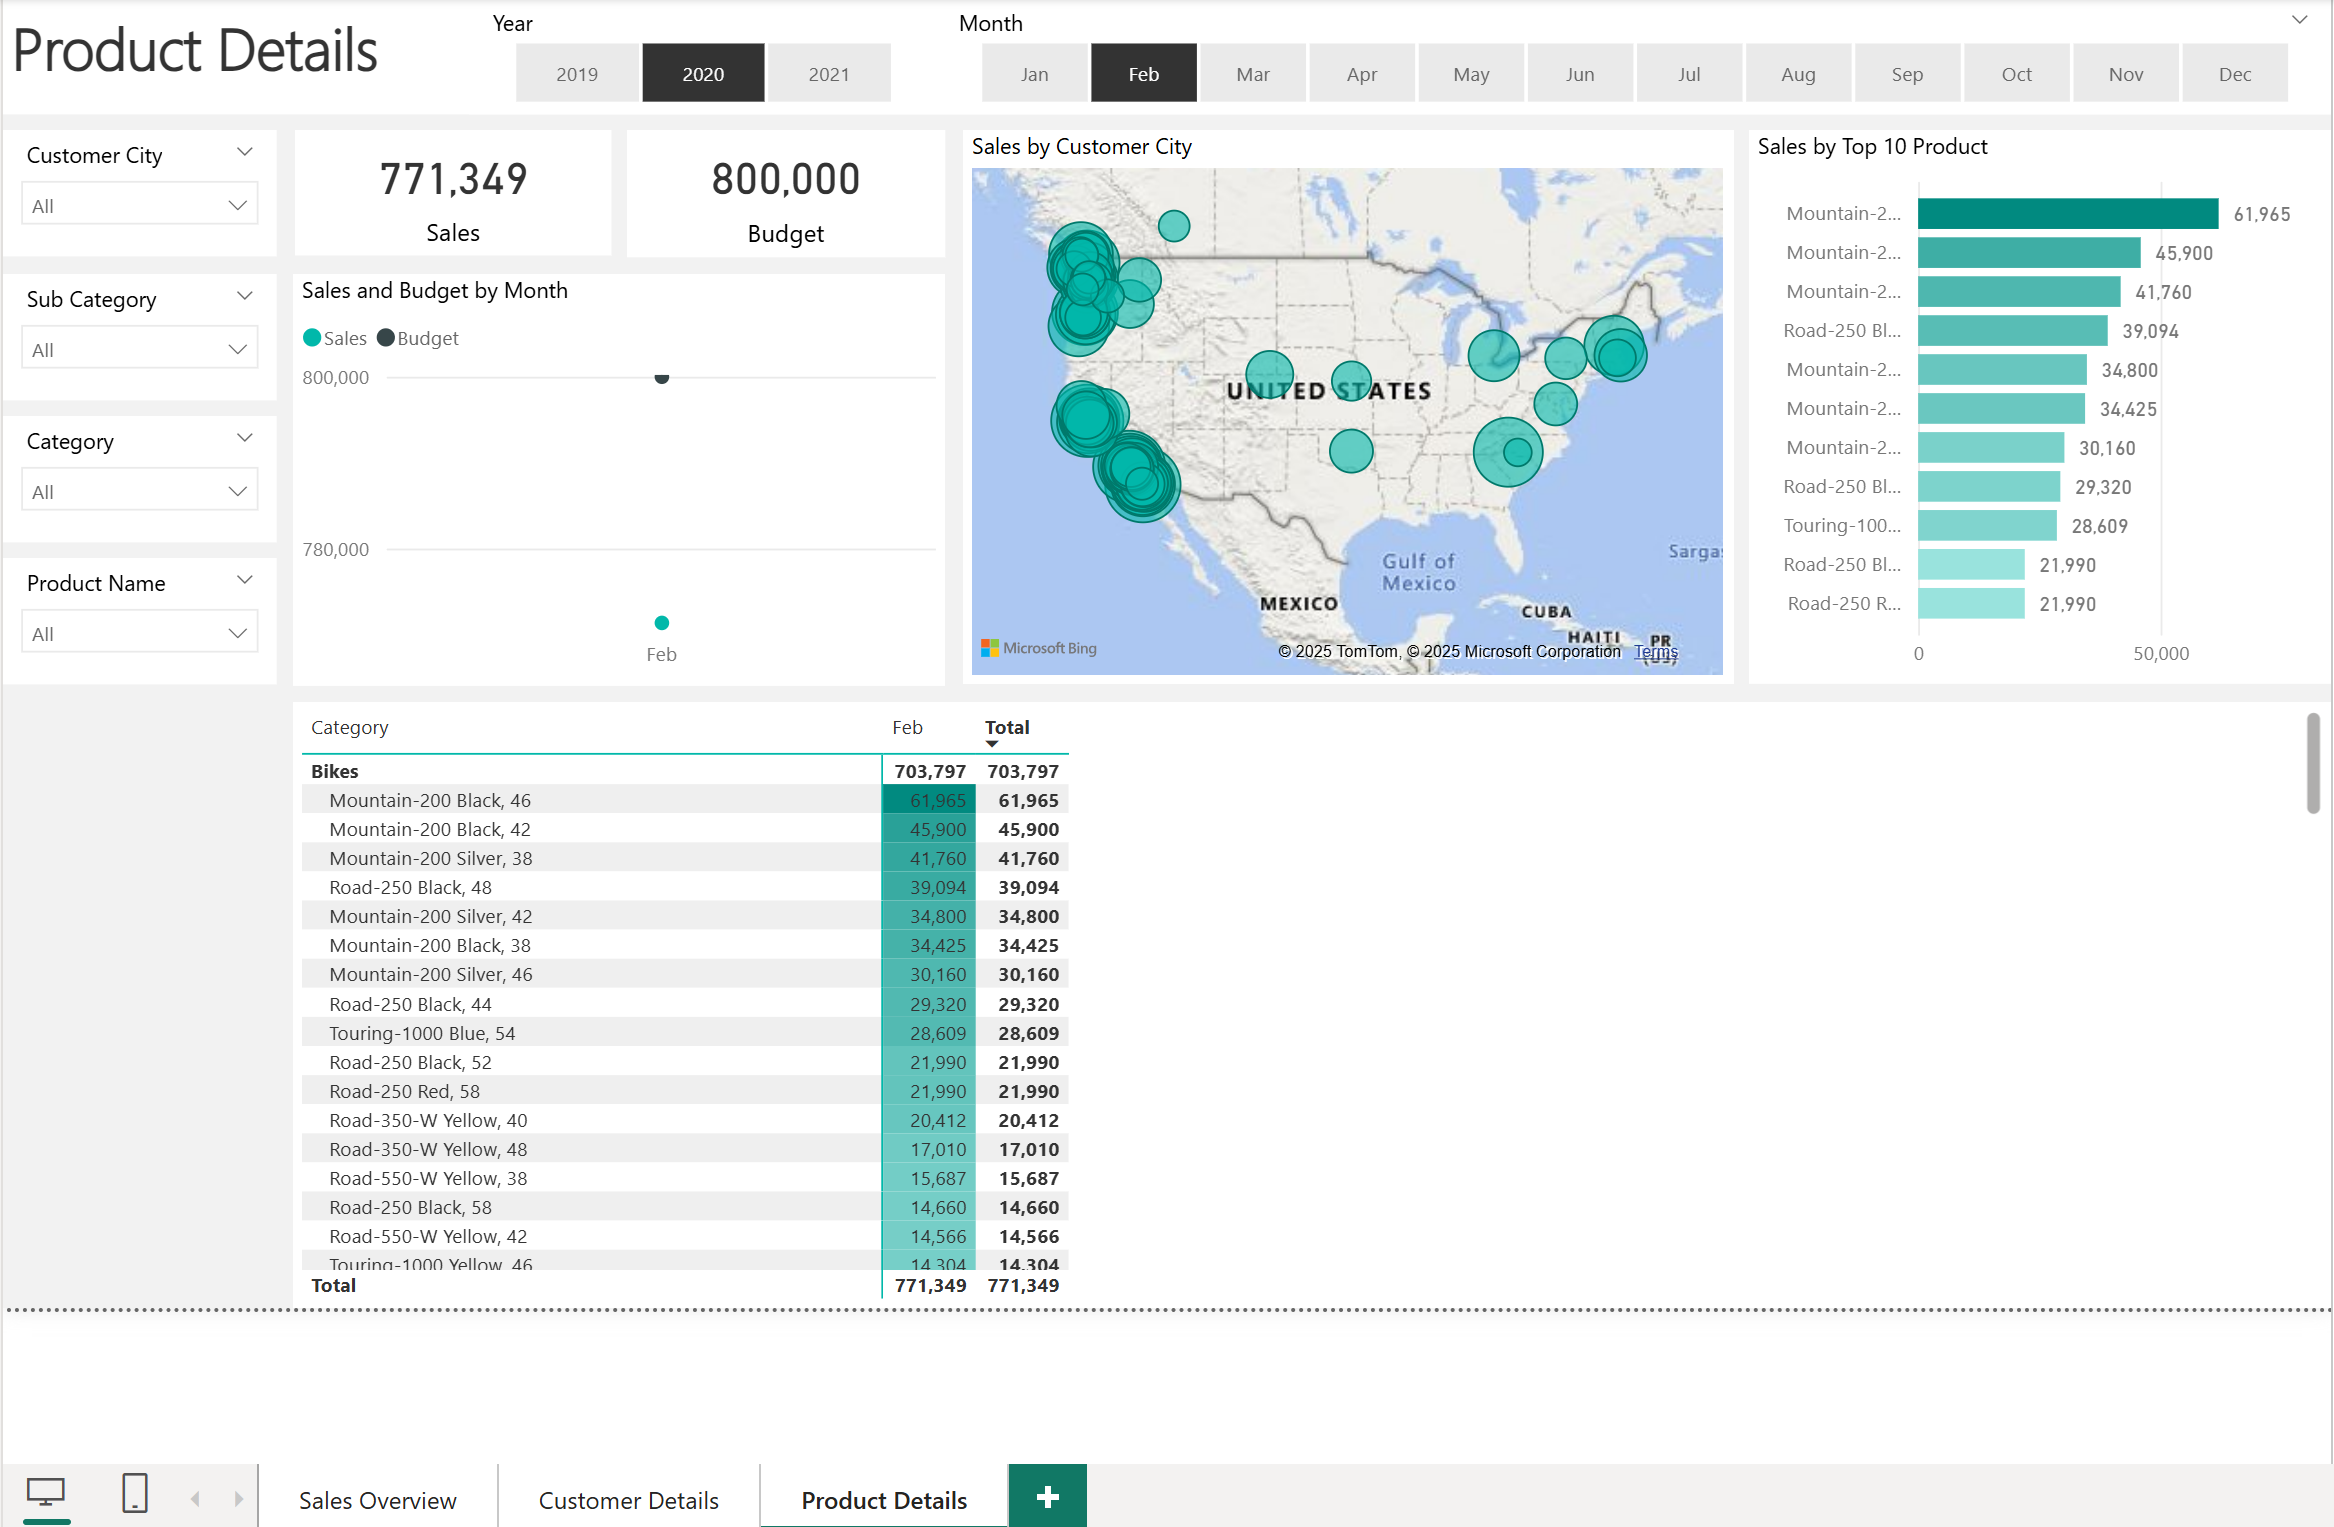

The dashboard page shown, as its layout file describes it:
{"tool":"powerbi","page":{"name":"Product Details","canvas":[1280,720],"ordinal":2},"visuals":[{"type":"textbox","box":[0,0,1280,64],"z":0},{"type":"slicer","fields":{"Values":["DIM_Calendar.Year"]},"box":[256,0,256,64],"z":1000},{"type":"slicer","fields":{"Values":["DIM_Calendar.MonthShort"]},"box":[512,0,768,64],"z":2000},{"type":"slicer","fields":{"Values":["DIM_Customers.Customer City"]},"box":[0,73,150.5,69.3],"z":3000},{"type":"slicer","fields":{"Values":["DIM_Products.Product Category"]},"box":[0,229.9,150.5,69.3],"z":4000},{"type":"slicer","fields":{"Values":["DIM_Products.Product Name"]},"box":[0,308.4,150.5,69.3],"z":5000},{"type":"slicer","fields":{"Values":["DIM_Products.Sub Category"]},"box":[0,151.4,150.5,69.3],"z":6000},{"type":"lineChart","fields":{"Category":["DIM_Calendar.MonthShort"],"Y":["Analysis Metrics.Sales","Analysis Metrics.Budget"]},"box":[159.8,151.8,358.7,226.4],"z":7000},{"type":"card","fields":{"Values":["Analysis Metrics.Sales"]},"box":[160.7,72.8,174,69.2],"z":8000},{"type":"map","fields":{"Category":["DIM_Customers.Customer City"],"Size":["Analysis Metrics.Sales"]},"box":[527.3,72.8,423.5,304.5],"z":9000},{"type":"card","fields":{"Values":["Analysis Metrics.Budget"]},"box":[343.6,72.8,174.9,70.1],"z":10000},{"type":"pivotTable","fields":{"Rows":["DIM_Products.Product Category","DIM_Products.Product Name"],"Columns":["DIM_Calendar.MonthShort"],"Values":["Analysis Metrics.Sales"]},"box":[159.8,387.1,1120.4,332.9],"z":11000},{"type":"clusteredBarChart","title":"Sales by Top 10 Product","fields":{"Category":["DIM_Products.Product Name"],"Y":["Analysis Metrics.Sales"]},"box":[959.7,72.8,320.5,304.5],"z":12000}]}

Visuals, with their boxes on the page's 1280x720 design canvas (x1, y1, x2, y2). These are canvas units, not pixel positions in the 2334x1527 screenshot, which may show the page scaled, cropped or inside an application window:
textbox: [0, 0, 1280, 64]
slicer - DIM_Calendar.Year: [256, 0, 512, 64]
slicer - DIM_Calendar.MonthShort: [512, 0, 1280, 64]
slicer - DIM_Customers.Customer City: [0, 73, 150, 142]
slicer - DIM_Products.Product Category: [0, 230, 150, 299]
slicer - DIM_Products.Product Name: [0, 308, 150, 378]
slicer - DIM_Products.Sub Category: [0, 151, 150, 221]
lineChart - DIM_Calendar.MonthShort x Analysis Metrics.Sales: [160, 152, 518, 378]
card - Analysis Metrics.Sales: [161, 73, 335, 142]
map - DIM_Customers.Customer City x Analysis Metrics.Sales: [527, 73, 951, 377]
card - Analysis Metrics.Budget: [344, 73, 518, 143]
pivotTable - DIM_Products.Product Category x DIM_Products.Product Name: [160, 387, 1280, 720]
"Sales by Top 10 Product" clusteredBarChart: [960, 73, 1280, 377]
